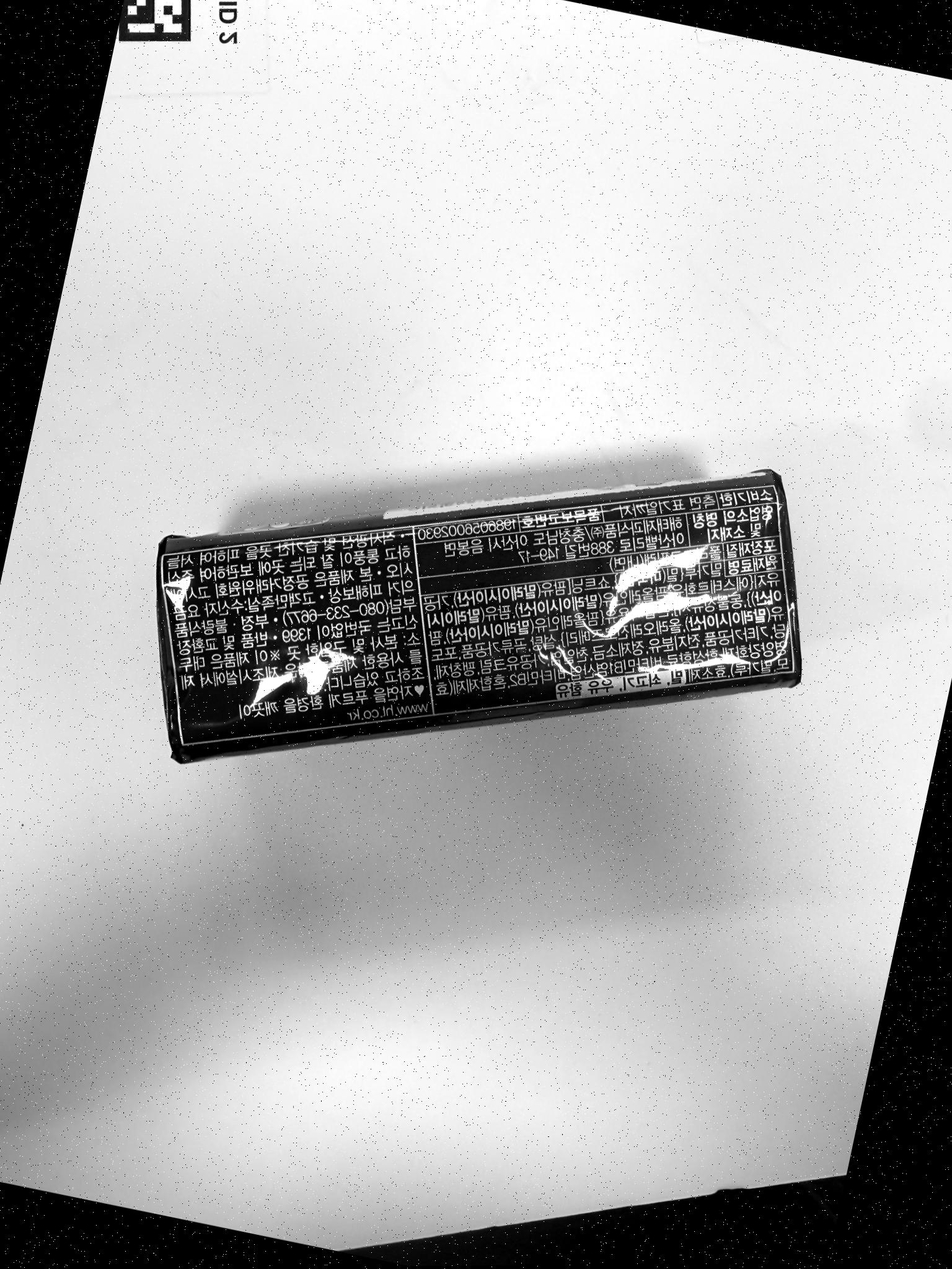cracker_ace: (156, 471, 802, 763)
